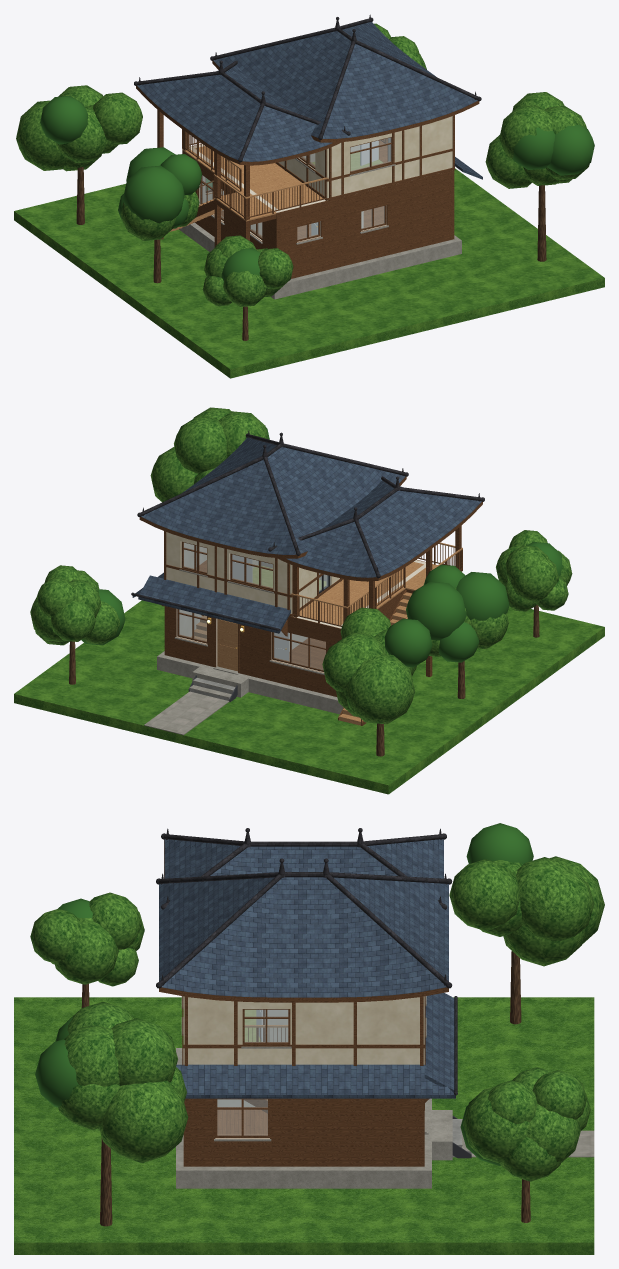
Rendered from b_house_eastasian_tile.gltf.
The picture shows the model from 3 angles, top to bottom: view 1: azimuth 30°, elevation 25°; view 2: azimuth 150°, elevation 25°; view 3: azimuth 270°, elevation 25°; orthographic projection. The views are drawn at different scales.
Parts seen in each view (by area): view 1: S_house_eastasian_tile; view 2: S_house_eastasian_tile, D_house_eastasian_tile_GF_S1_Door0; view 3: S_house_eastasian_tile.
Boxes of the visible parts, x1=… form: S_house_eastasian_tile: x1=14, y1=14, x2=604, y2=378; S_house_eastasian_tile: x1=14, y1=407, x2=604, y2=794; D_house_eastasian_tile_GF_S1_Door0: x1=217, y1=618, x2=237, y2=671; S_house_eastasian_tile: x1=14, y1=823, x2=604, y2=1254.
Bounding box in the file's own units: 18.5 × 9.62 × 17.32.
Materials: 26 (16 with a texture image).
